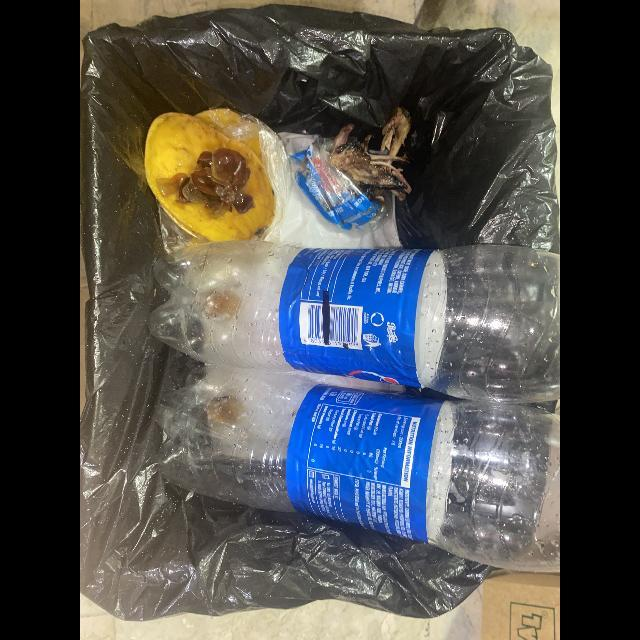biowaste: (144, 114, 276, 240), (327, 108, 412, 201), (156, 148, 256, 217)
plastic: (159, 367, 560, 575), (148, 241, 560, 402)
